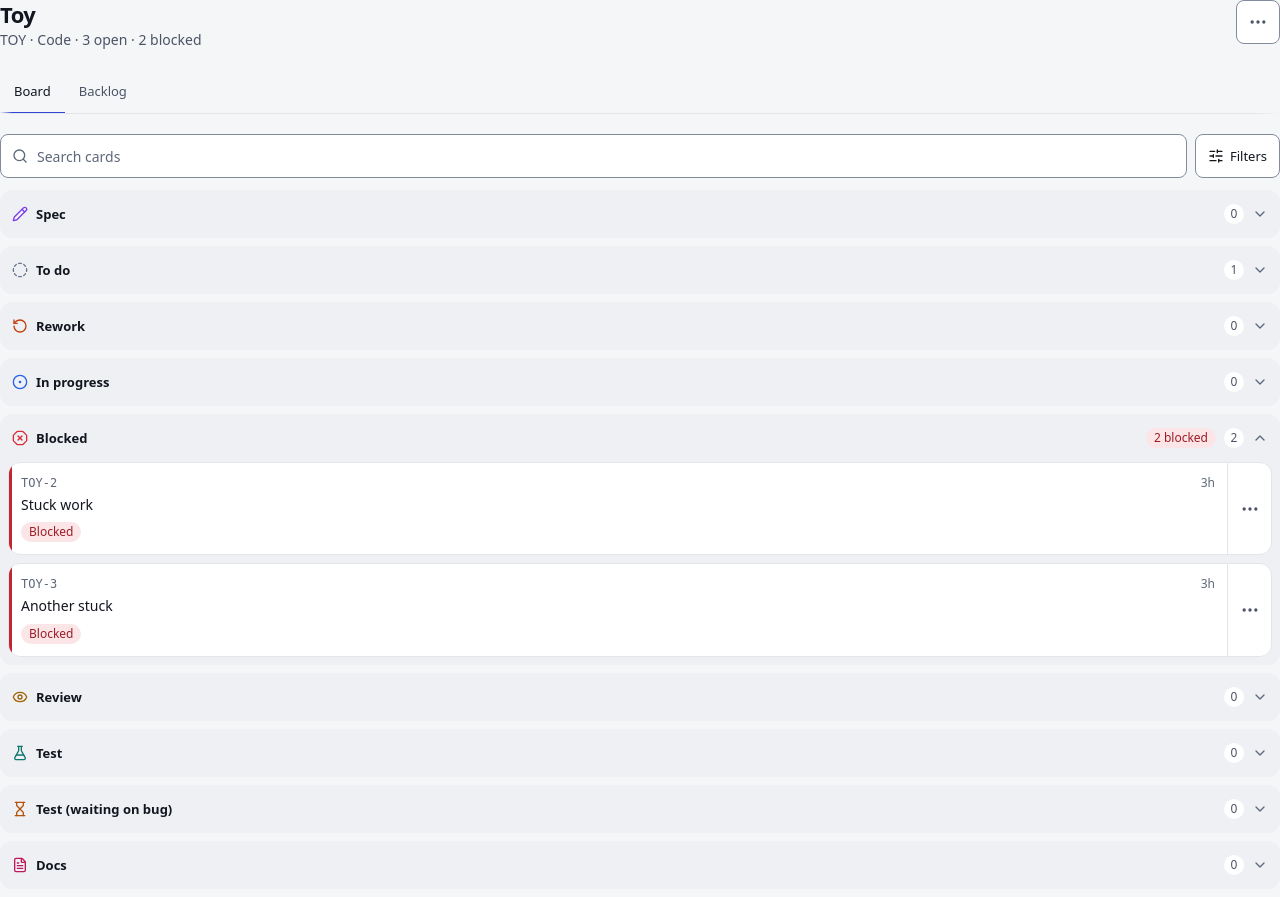
Test: the phone board page › an owner finds Pause project in the project actions sheet
The image size is (1280, 897).
Click the button with test id "project-actions-open": (1258, 22) 1236,0 -> 1279,44
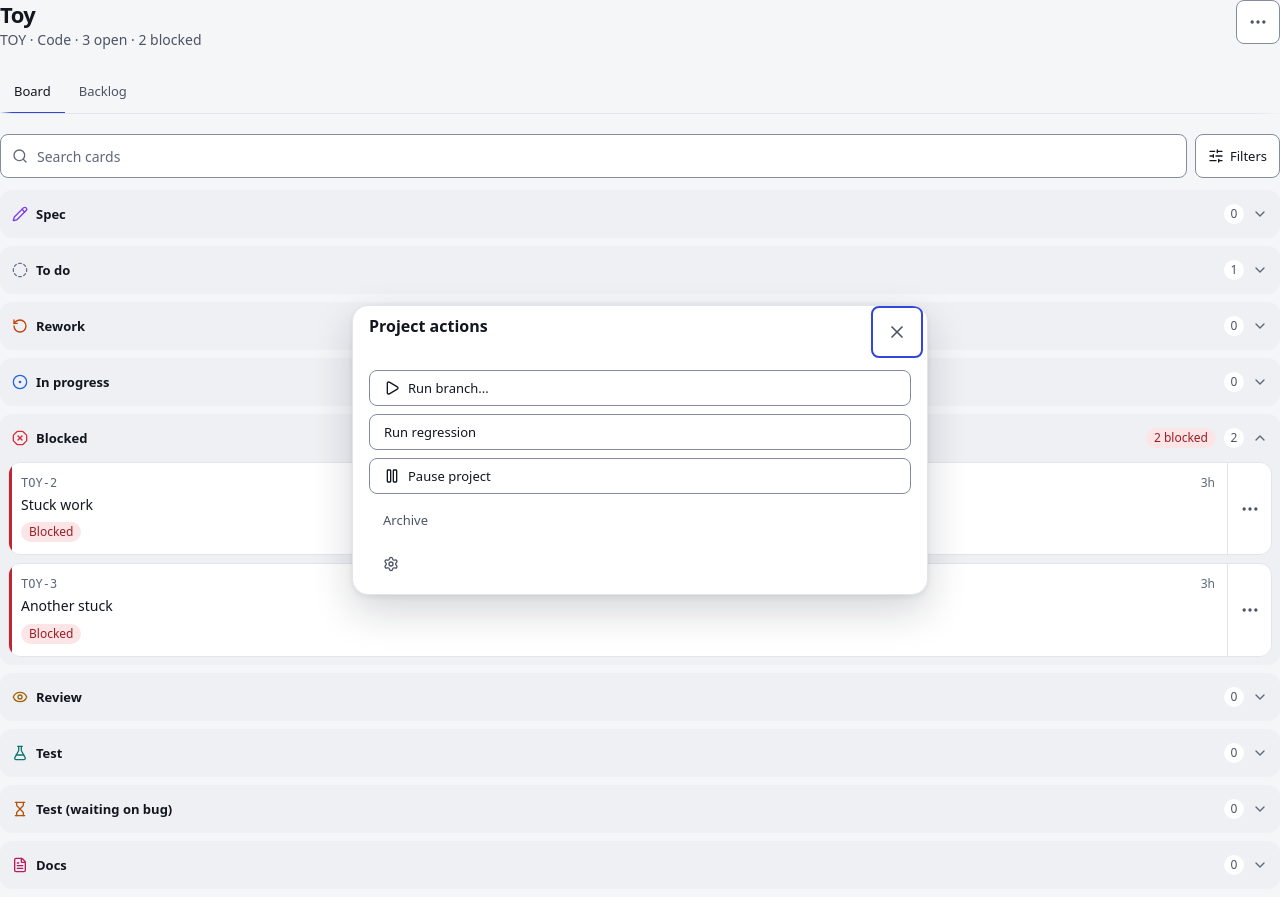
expect the button with test id "pause-project-open" is shown: met, box 369,458 -> 911,494
expect the link "Archive" is shown: met, box 383,511 -> 428,529
expect the link named "Settings for TOY" is shown: met, box 383,556 -> 399,572
